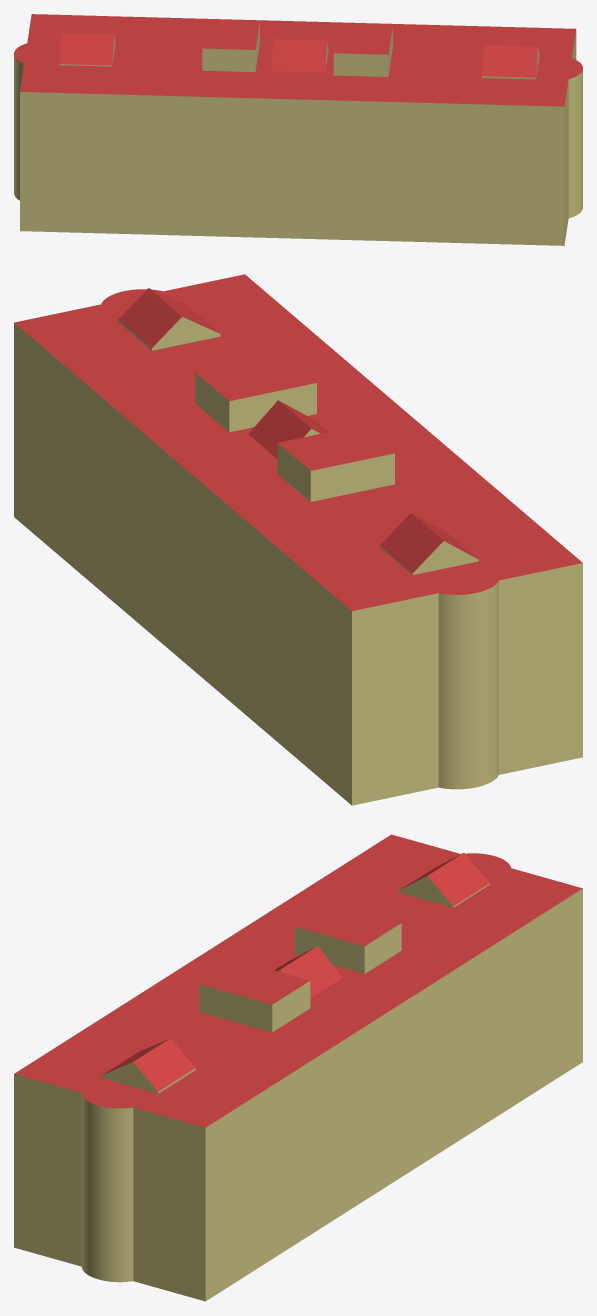
3 views of the same model, one above another, from view 1: azimuth 30°, elevation 25°; view 2: azimuth 150°, elevation 25°; view 3: azimuth 270°, elevation 25° (orthographic). The views are drawn at different scales.
Parts seen in each view (by area): view 1: group_17, group_6, group_20, group_13, group_15, group_7, group_11, group_9, group_8, group_10, group_3, group_4; view 2: group_17, group_6, group_4, group_10, group_8, group_7, group_9, group_15, group_11, group_3, group_13, group_16 (+1 smaller); view 3: group_17, group_6, group_20, group_8, group_10, group_7, group_9, group_15, group_11, group_13, group_3, group_16 (+1 smaller).
Boxes of the visible parts, bbox=[...] form: group_17: bbox=[20, 30, 576, 245]; group_6: bbox=[20, 14, 576, 106]; group_20: bbox=[568, 70, 582, 218]; group_13: bbox=[271, 39, 326, 72]; group_15: bbox=[482, 45, 537, 77]; group_7: bbox=[333, 23, 392, 54]; group_11: bbox=[59, 33, 113, 65]; group_9: bbox=[202, 20, 259, 49]; group_8: bbox=[333, 27, 392, 76]; group_10: bbox=[202, 22, 259, 72]; group_3: bbox=[14, 41, 60, 66]; group_4: bbox=[14, 55, 23, 200]; group_17: bbox=[14, 323, 582, 805]; group_6: bbox=[14, 274, 582, 610]; group_4: bbox=[438, 581, 498, 789]; group_10: bbox=[277, 443, 394, 501]; group_8: bbox=[195, 372, 316, 432]; group_7: bbox=[195, 354, 316, 400]; group_9: bbox=[278, 425, 394, 470]; group_15: bbox=[118, 288, 219, 347]; group_11: bbox=[380, 513, 477, 573]; group_3: bbox=[414, 561, 499, 594]; group_13: bbox=[248, 400, 328, 458]; group_16: bbox=[118, 317, 220, 350]; group_17: bbox=[14, 888, 582, 1301]; group_6: bbox=[14, 834, 582, 1127]; group_20: bbox=[81, 1094, 133, 1282]; group_8: bbox=[199, 981, 310, 1032]; group_10: bbox=[294, 923, 401, 973]; group_7: bbox=[200, 960, 309, 1004]; group_9: bbox=[295, 903, 400, 946]; group_15: bbox=[103, 1038, 195, 1091]; group_11: bbox=[400, 853, 489, 906]; group_13: bbox=[274, 946, 342, 997]; group_3: bbox=[435, 853, 511, 883]; group_16: bbox=[101, 1062, 195, 1093].
Size of the model in its own units: 61.23 by 50.19 by 19.61.
